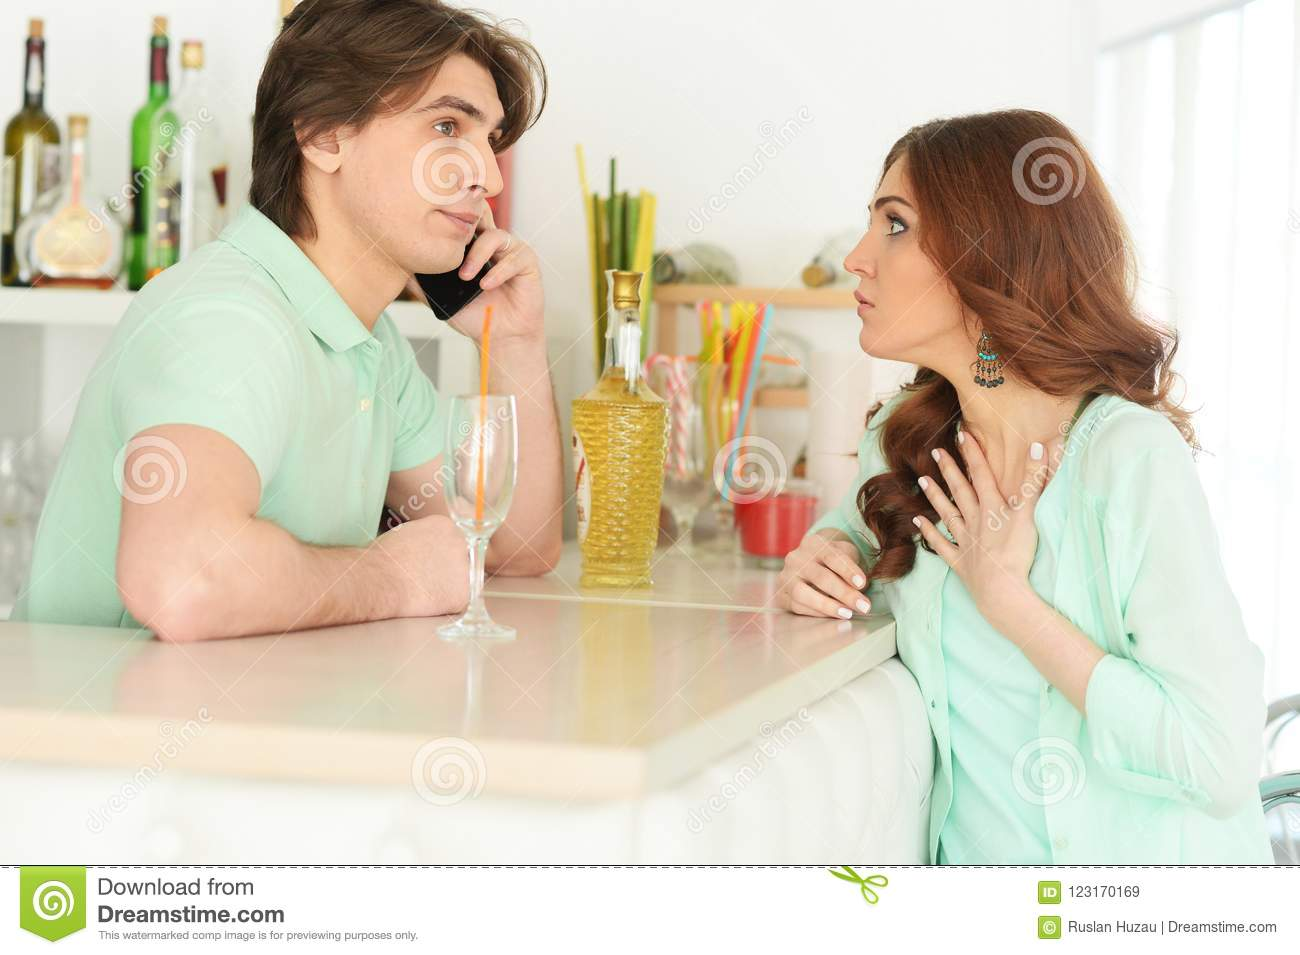talk: (403, 93, 544, 363)
